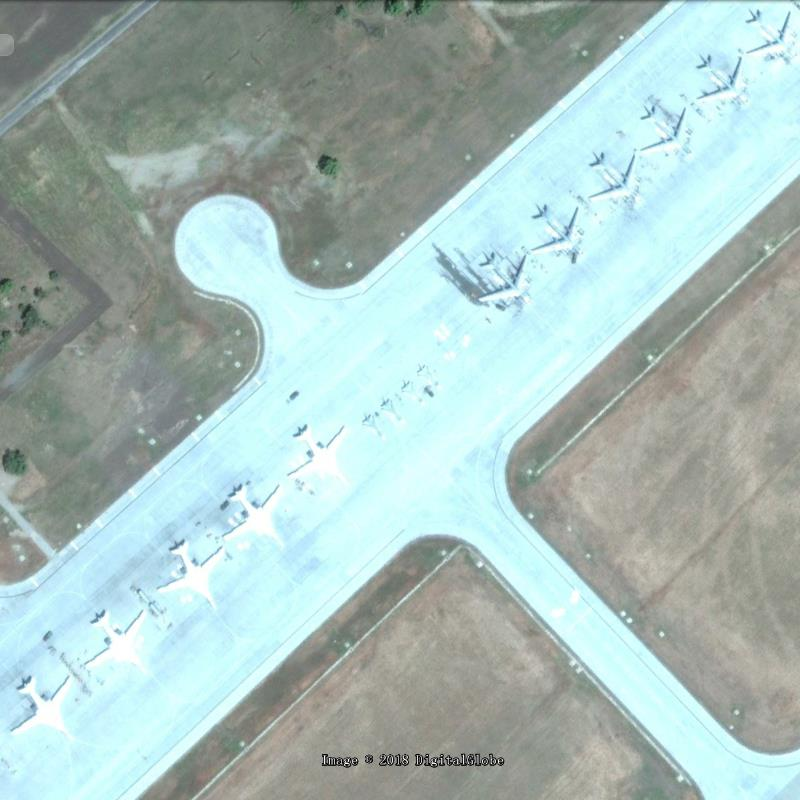A17: (533, 205, 593, 266), (744, 9, 800, 71), (693, 54, 751, 112), (479, 253, 535, 311), (640, 109, 696, 163), (589, 155, 645, 208)
A6: (84, 609, 151, 680), (158, 542, 224, 612), (223, 484, 288, 552), (10, 676, 76, 742), (290, 426, 355, 492)
